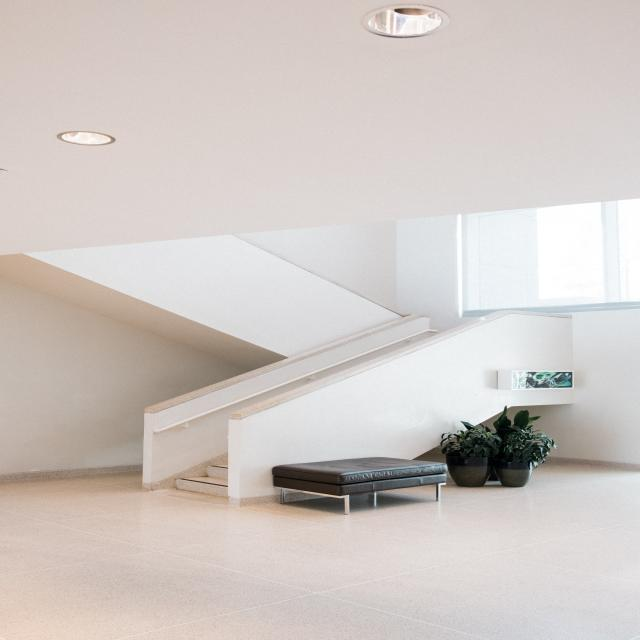floor: (0, 459, 640, 640)
